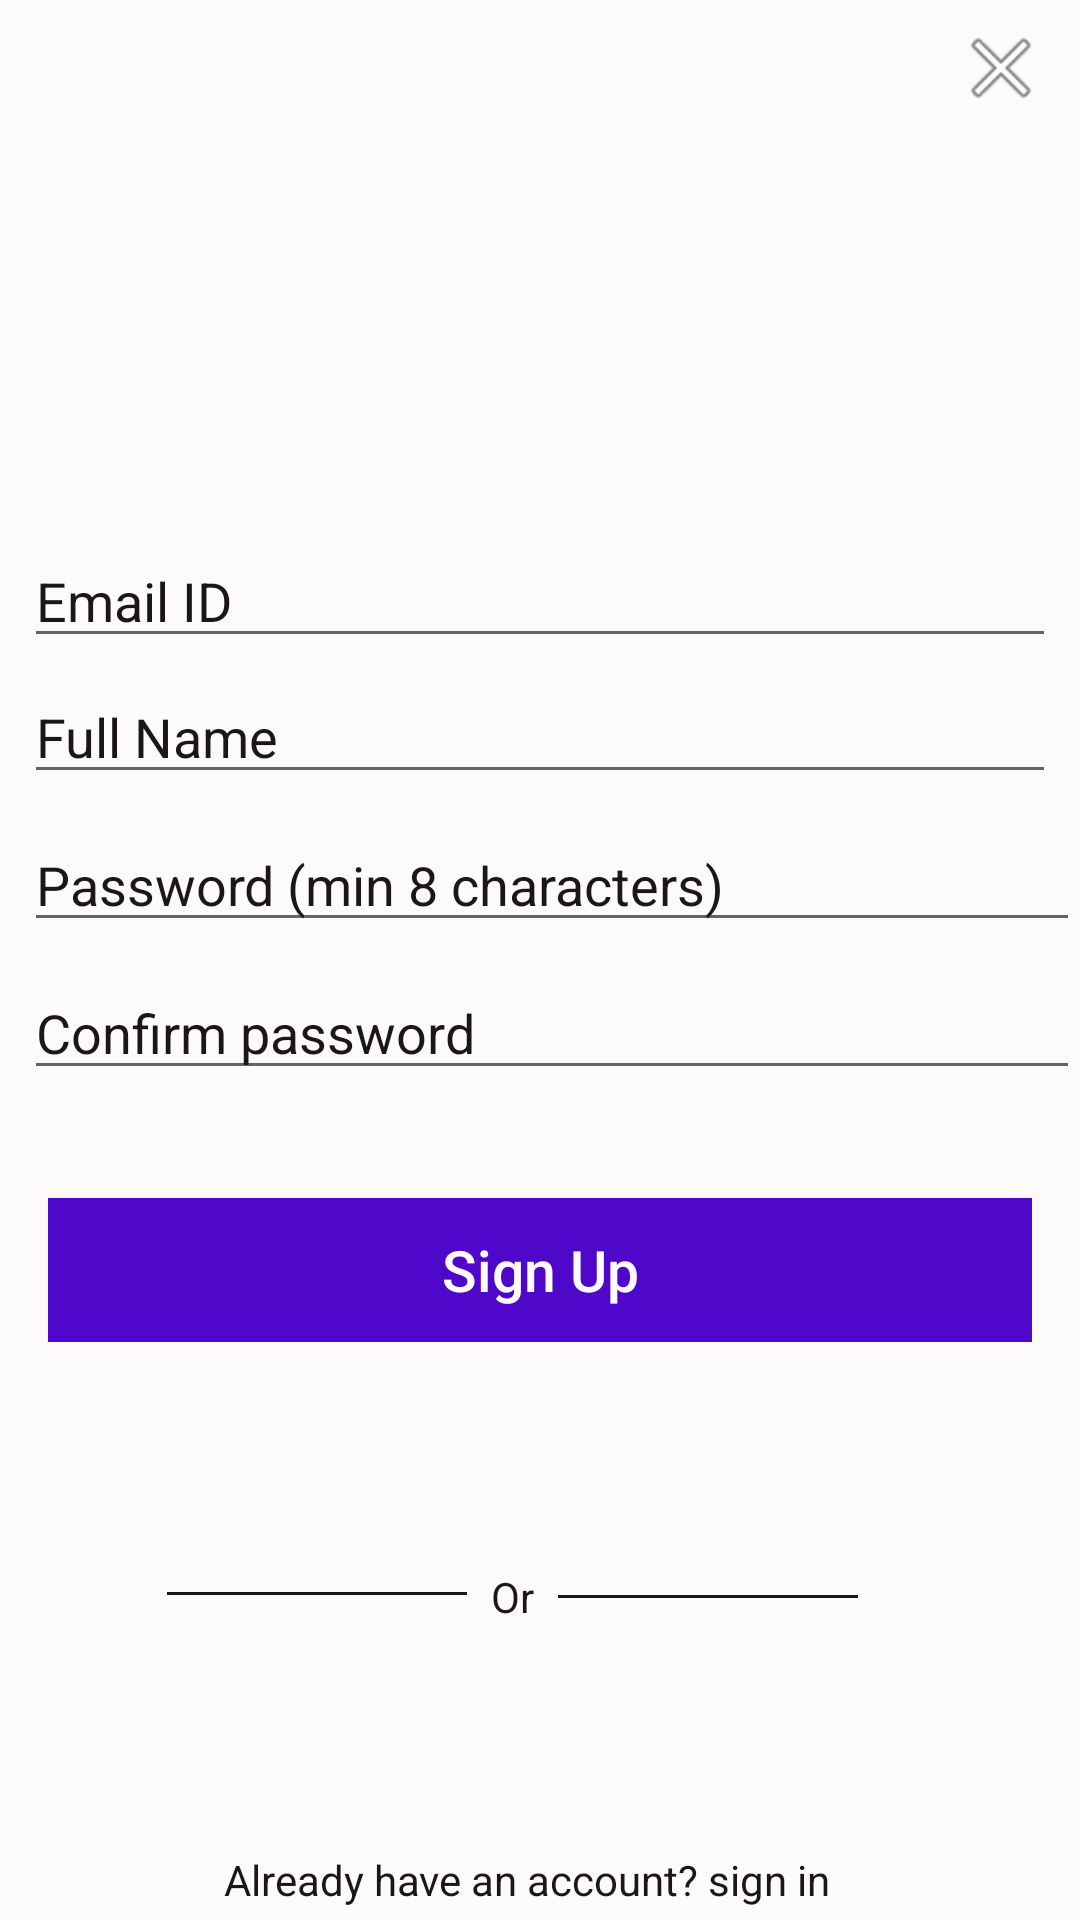

Named icons in this screenshot (1080x1920) and their centers, [x,y]:
close clear cancel: [1001,68]
